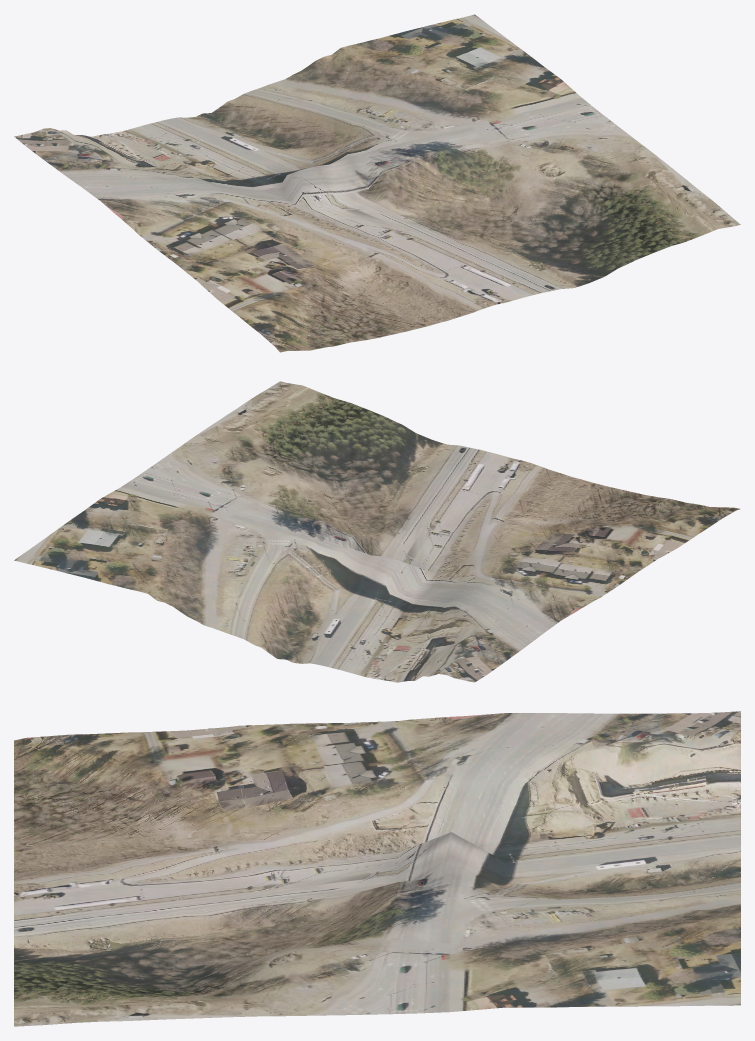
Rendered from CM_Terrain_24490663_6819589.fbx.
3 renders of one model, top to bottom at view 1: azimuth 30°, elevation 25°; view 2: azimuth 150°, elevation 25°; view 3: azimuth 270°, elevation 25°, orthographic. The views are drawn at different scales.
Parts seen in each view (by area): view 1: CM_Terrain_24490663_6819589_LOD0; view 2: CM_Terrain_24490663_6819589_LOD0; view 3: CM_Terrain_24490663_6819589_LOD0.
Boxes of the visible parts, bbox=[...] form: CM_Terrain_24490663_6819589_LOD0: bbox=[14, 14, 740, 352]; CM_Terrain_24490663_6819589_LOD0: bbox=[14, 381, 740, 682]; CM_Terrain_24490663_6819589_LOD0: bbox=[14, 711, 740, 1026].
Size of what is drawn, in the model's own units: 205 by 17.46 by 205.
